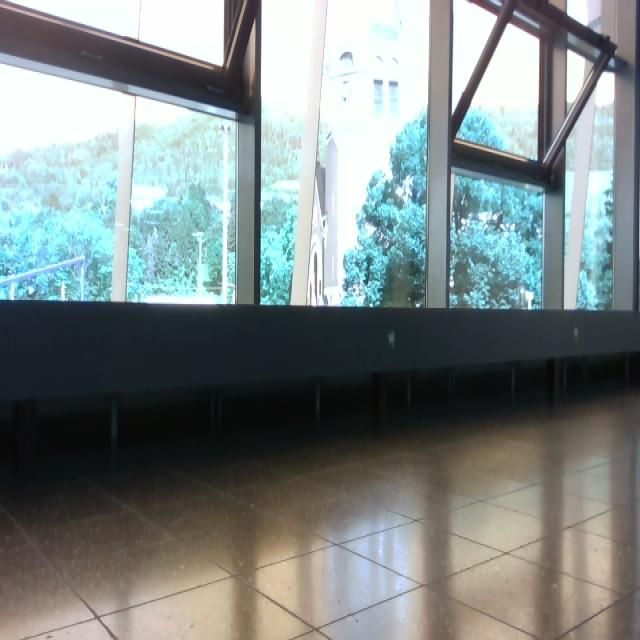light bulb: (595, 69, 616, 109), (525, 290, 535, 309), (388, 329, 396, 348)
tiled floor: (2, 385, 639, 638)
window: (1, 1, 639, 314)
